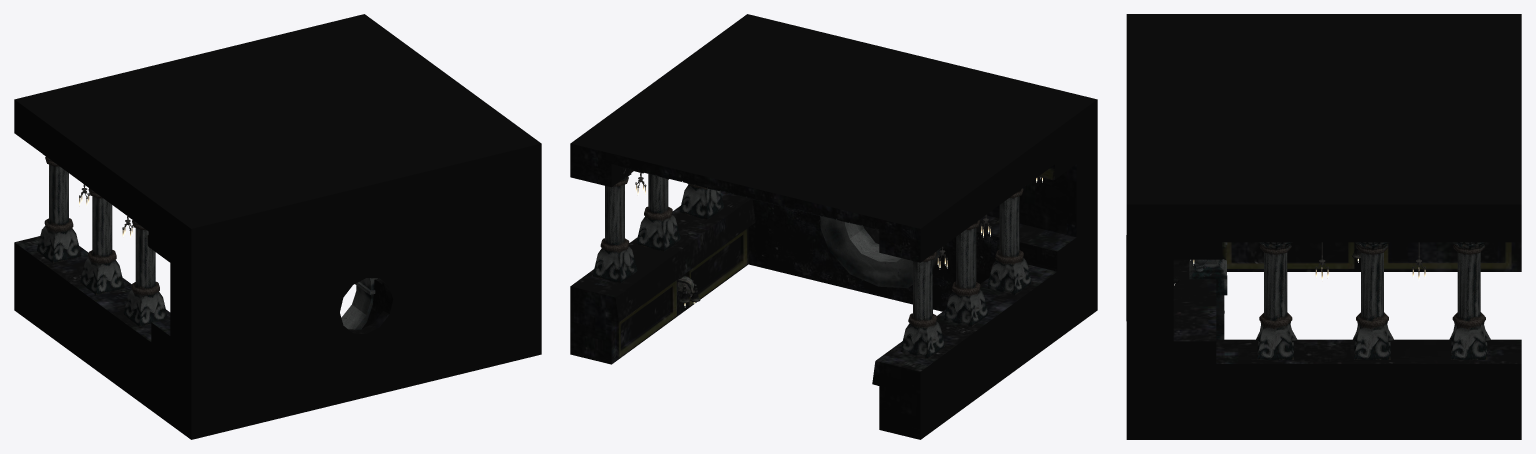
Rendered from hunters rest 1.fbx.
3 renders of one model, left to right at view 1: azimuth 30°, elevation 25°; view 2: azimuth 150°, elevation 25°; view 3: azimuth 270°, elevation 25°, orthographic. The views are drawn at different scales.
Visible parts, largest first — view 1: BBRoomSF2_obj_cleaner_materialmerger_gles; view 2: BBRoomSF2_obj_cleaner_materialmerger_gles; view 3: BBRoomSF2_obj_cleaner_materialmerger_gles.
Boxes of the visible parts, box(x1,y1,x2,y2) form: BBRoomSF2_obj_cleaner_materialmerger_gles: box(14, 14, 541, 439); BBRoomSF2_obj_cleaner_materialmerger_gles: box(570, 14, 1097, 439); BBRoomSF2_obj_cleaner_materialmerger_gles: box(1126, 14, 1521, 439).
Size of the model in its own units: 0.0521 by 0.03 by 0.0457.
17 materials, 16 textured.
